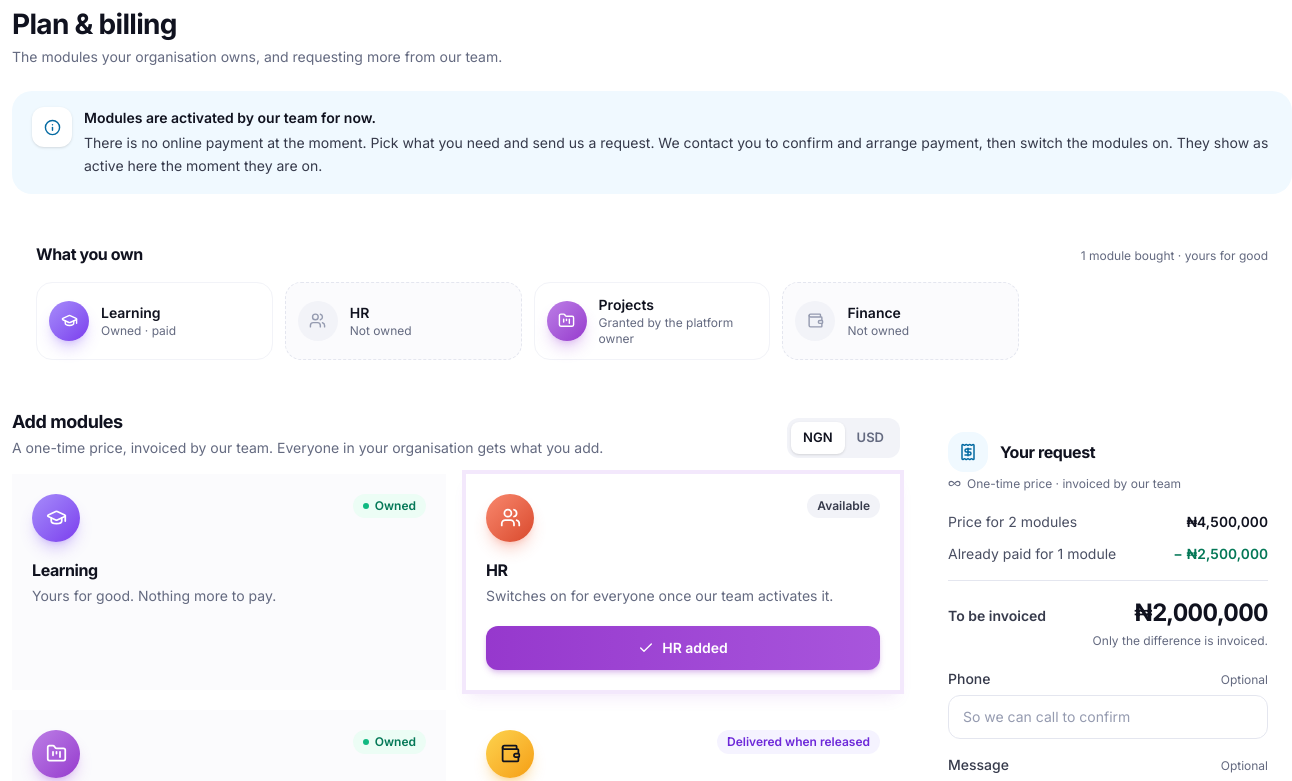
Scenario: Plan & billing with online payment switched off › shows the API's field error next to the field it's about
The width and height of the screenshot is (1292, 781).
In the field labelled "Phone": (1108, 717) [948,695,1268,739], type "x"
(page scrolled)
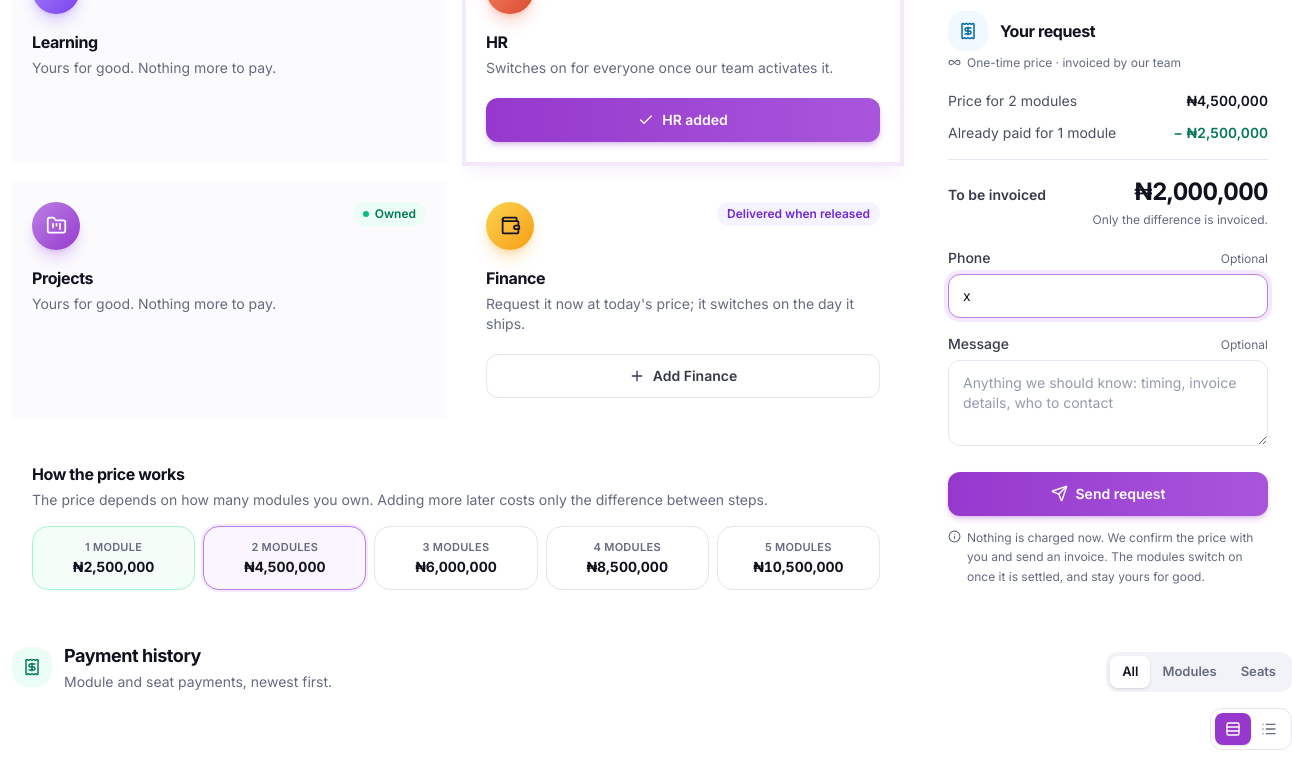
Click the button "Send request": (1108, 494) [948,472,1268,516]
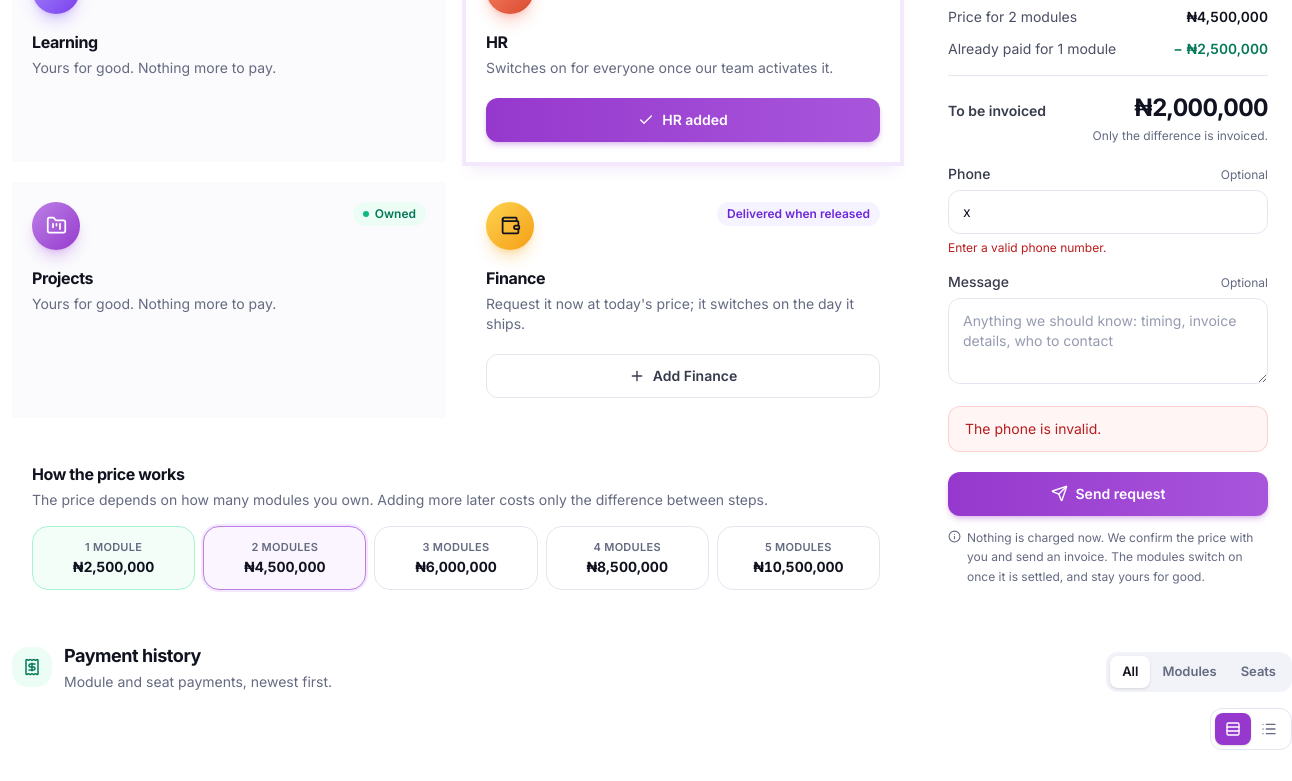
Expected: the text "Enter a valid phone number." is shown, [948,240,1106,255]
